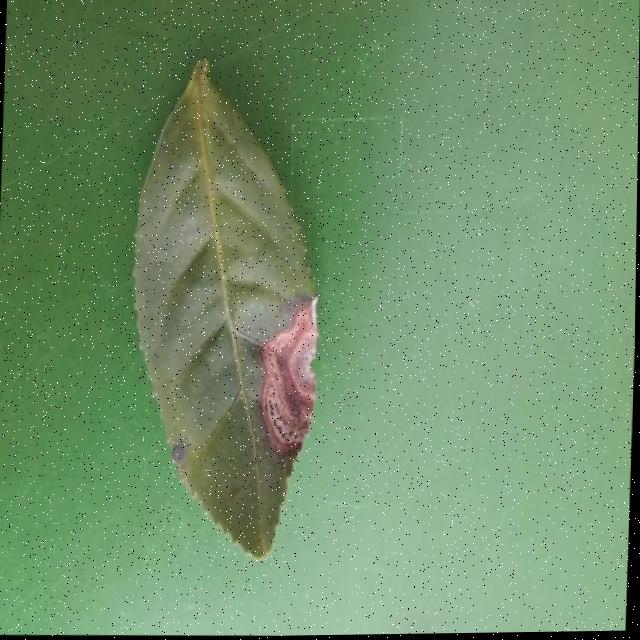Tea cloud leaf blight: (251, 293, 328, 467)
